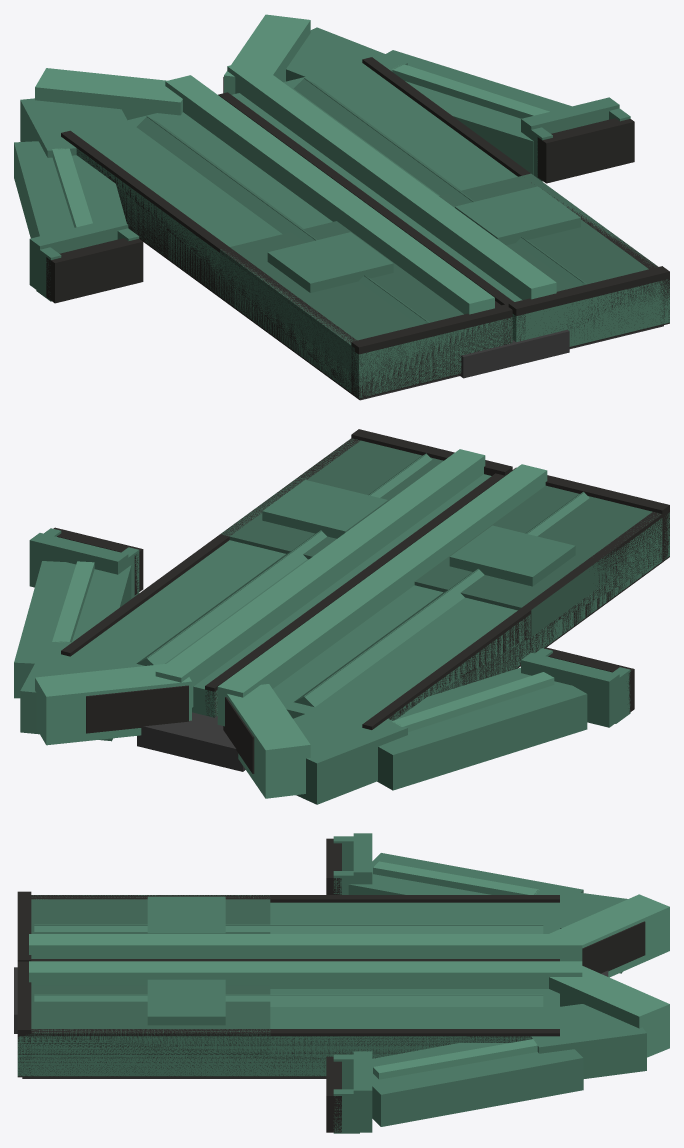
Rendered from CMU3DRMCLabcoatCMOOpenedWorldCloud.glb.
3 views of the same model, one above another, from view 1: azimuth 30°, elevation 25°; view 2: azimuth 150°, elevation 25°; view 3: azimuth 270°, elevation 25° (orthographic). The views are drawn at different scales.
Visible parts, largest first — view 1: left tailored front continuous woven panel, right tailored front continuous woven panel, right long turned facing, left long turned facing, left lower green lapel continuation, left tailored front left bound seam, left tailored front lower turned hem, right lower green lapel continuation, left continuous angled sleeve, right continuous angled sleeve, left turned collar leaf, left lower labcoat pocket (+19 smaller); view 2: left tailored front continuous woven panel, right long turned facing, left long turned facing, left continuous angled sleeve, right tailored front continuous woven panel, left lower green lapel continuation, left tailored front left bound seam, right lower green lapel continuation, left broad connected shoulder, right turned collar leaf, right continuous angled sleeve, left turned collar leaf (+21 smaller); view 3: right tailored front continuous woven panel, right long turned facing, left long turned facing, right continuous angled sleeve, right lower green lapel continuation, right tailored front right bound seam, left tailored front continuous woven panel, right broad connected shoulder, left lower green lapel continuation, right tailored front right restrained cloth crease, right turned collar leaf, left tailored front right restrained cloth crease (+21 smaller).
Boxes of the visible parts, bbox=[...] form: left tailored front continuous woven panel: bbox=[74, 112, 512, 398]; right tailored front continuous woven panel: bbox=[232, 63, 669, 346]; right long turned facing: bbox=[227, 60, 556, 299]; left long turned facing: bbox=[165, 75, 494, 314]; left lower green lapel continuation: bbox=[220, 221, 463, 374]; left tailored front left bound seam: bbox=[61, 130, 368, 399]; left tailored front lower turned hem: bbox=[351, 304, 512, 398]; right lower green lapel continuation: bbox=[439, 173, 657, 291]; left continuous angled sleeve: bbox=[14, 141, 126, 238]; right continuous angled sleeve: bbox=[386, 50, 571, 175]; left turned collar leaf: bbox=[35, 68, 182, 120]; left lower labcoat pocket: bbox=[267, 232, 393, 292]; left tailored front continuous woven panel: bbox=[273, 512, 669, 727]; right long turned facing: bbox=[155, 449, 485, 707]; left long turned facing: bbox=[217, 464, 547, 726]; left continuous angled sleeve: bbox=[377, 667, 587, 790]; right tailored front continuous woven panel: bbox=[71, 474, 491, 717]; left lower green lapel continuation: bbox=[414, 485, 660, 636]; left tailored front left bound seam: bbox=[362, 509, 669, 729]; right lower green lapel continuation: bbox=[221, 438, 443, 559]; left broad connected shoulder: bbox=[293, 699, 407, 804]; right turned collar leaf: bbox=[35, 664, 191, 745]; right continuous angled sleeve: bbox=[14, 561, 131, 698]; left turned collar leaf: bbox=[227, 684, 310, 798]; right tailored front continuous woven panel: bbox=[17, 989, 559, 1076]; right long turned facing: bbox=[29, 961, 582, 988]; left long turned facing: bbox=[29, 934, 582, 961]; right continuous angled sleeve: bbox=[372, 1043, 583, 1126]; right lower green lapel continuation: bbox=[25, 985, 270, 1057]; right tailored front right bound seam: bbox=[17, 1029, 559, 1077]; left tailored front continuous woven panel: bbox=[270, 902, 559, 933]; right broad connected shoulder: bbox=[514, 1004, 646, 1078]; left lower green lapel continuation: bbox=[31, 895, 270, 933]; right tailored front right restrained cloth crease: bbox=[34, 994, 543, 1006]; right turned collar leaf: bbox=[549, 966, 669, 1057]; left tailored front right restrained cloth crease: bbox=[34, 924, 543, 933].
Bounding box in the file's own units: 0.5125 × 0.056 × 0.552.
